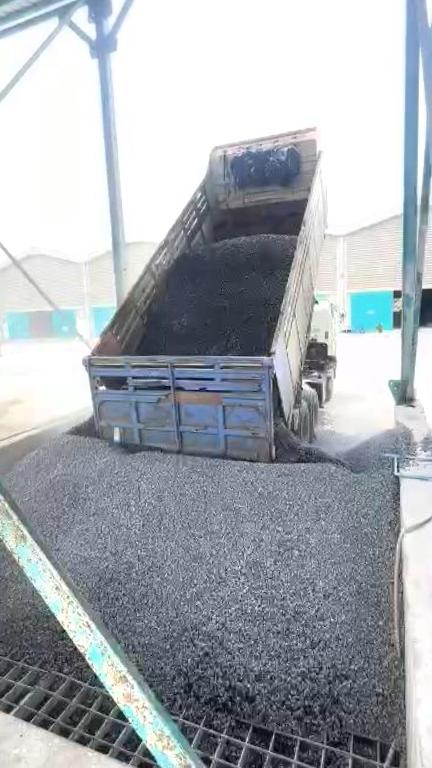gravel: (0, 419, 420, 738), (140, 237, 294, 355), (0, 486, 88, 674)
sand: (0, 366, 39, 450)
